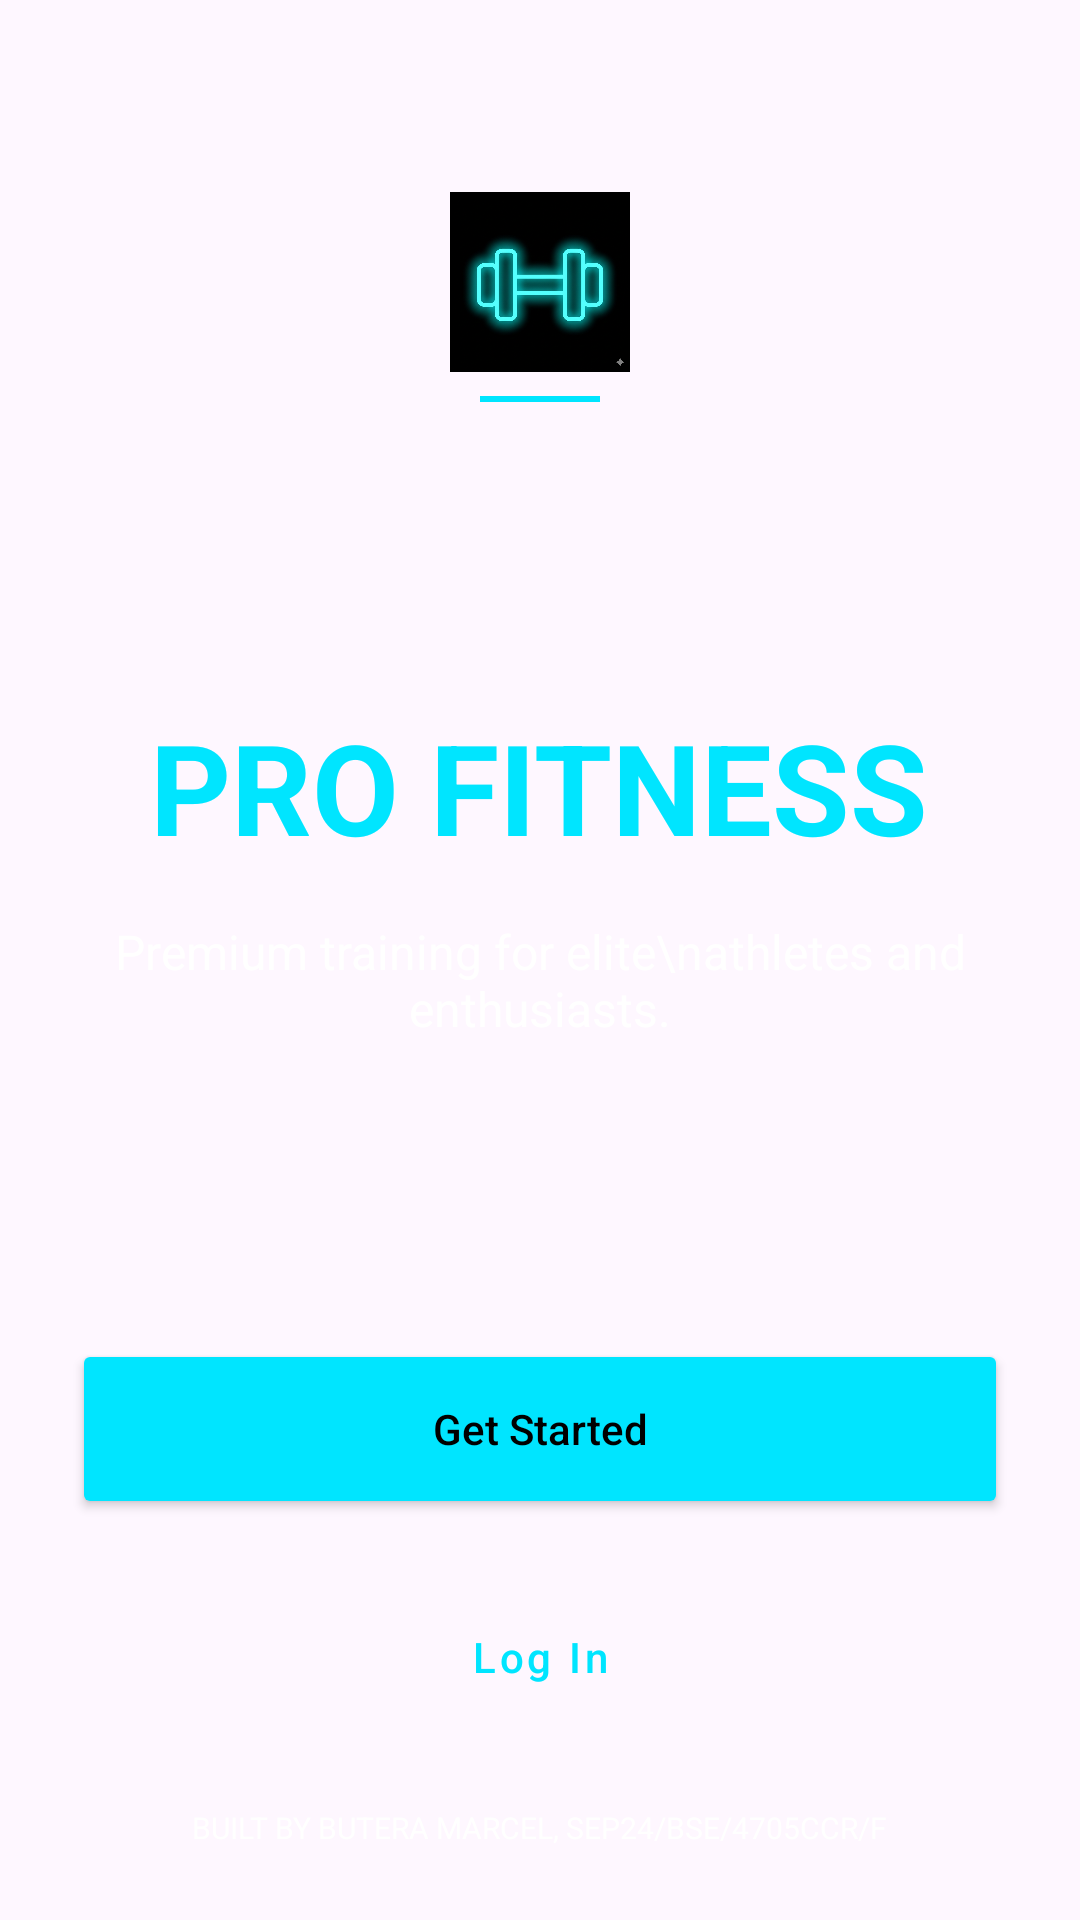

Named icons in this screenshot (1080×1920) and their centers, (x=x, y=y):
welcome dumbell: (x=540, y=282)
